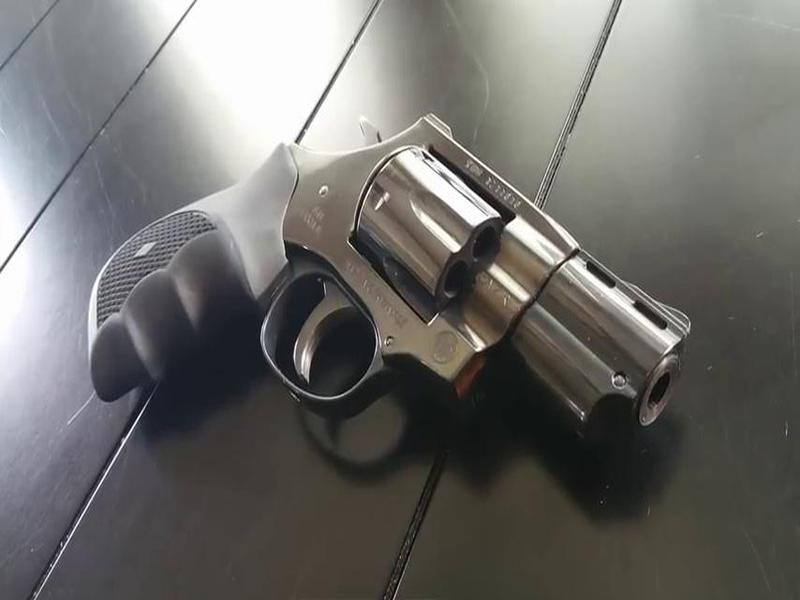Revolver: (113, 96, 688, 477)
